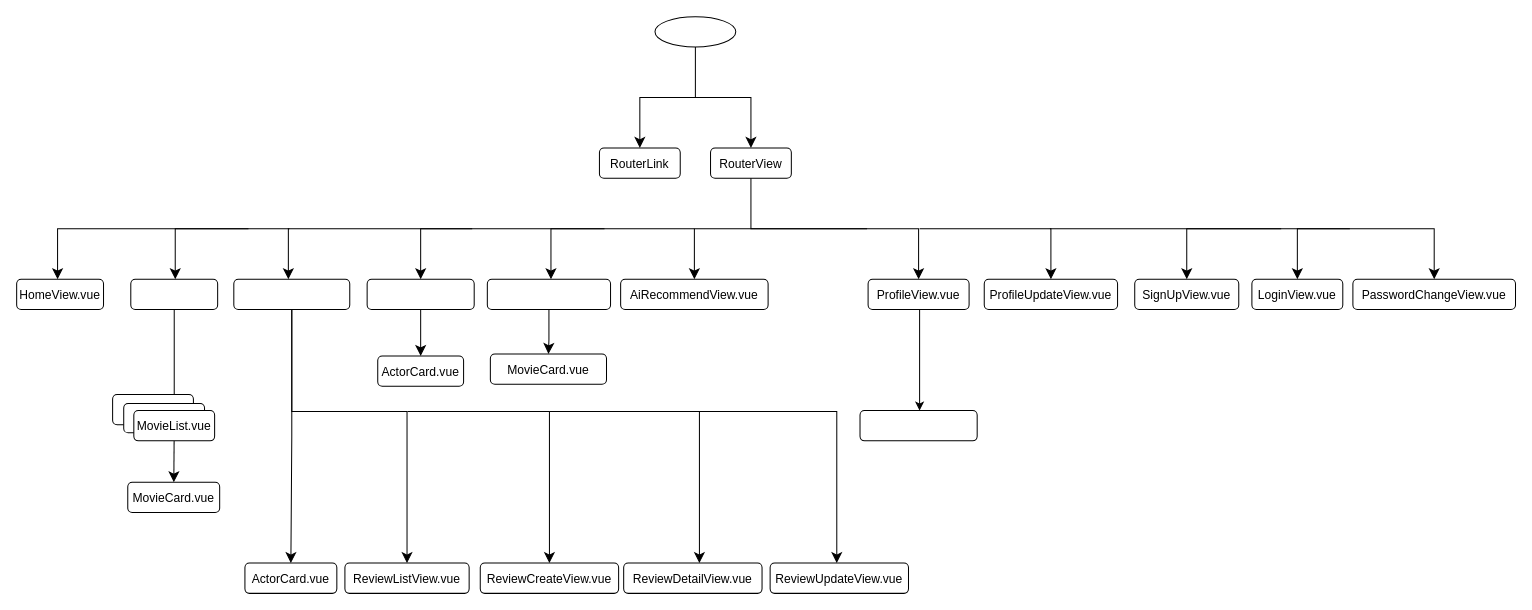
This 1532x610 diagram has some shape labels left out. Here are the shapes that lost their labels. From the top down, the centre of each, then its label:
At point (695, 31): "App.vue".
At point (174, 294): "MovieView.vue".
At point (291, 294): "MovieDetailView.vue".
At point (420, 294): "ActorListView.vue".
At point (548, 294): "ActorDetailView.vue".
At point (918, 425): "SelectGenre.vue".
